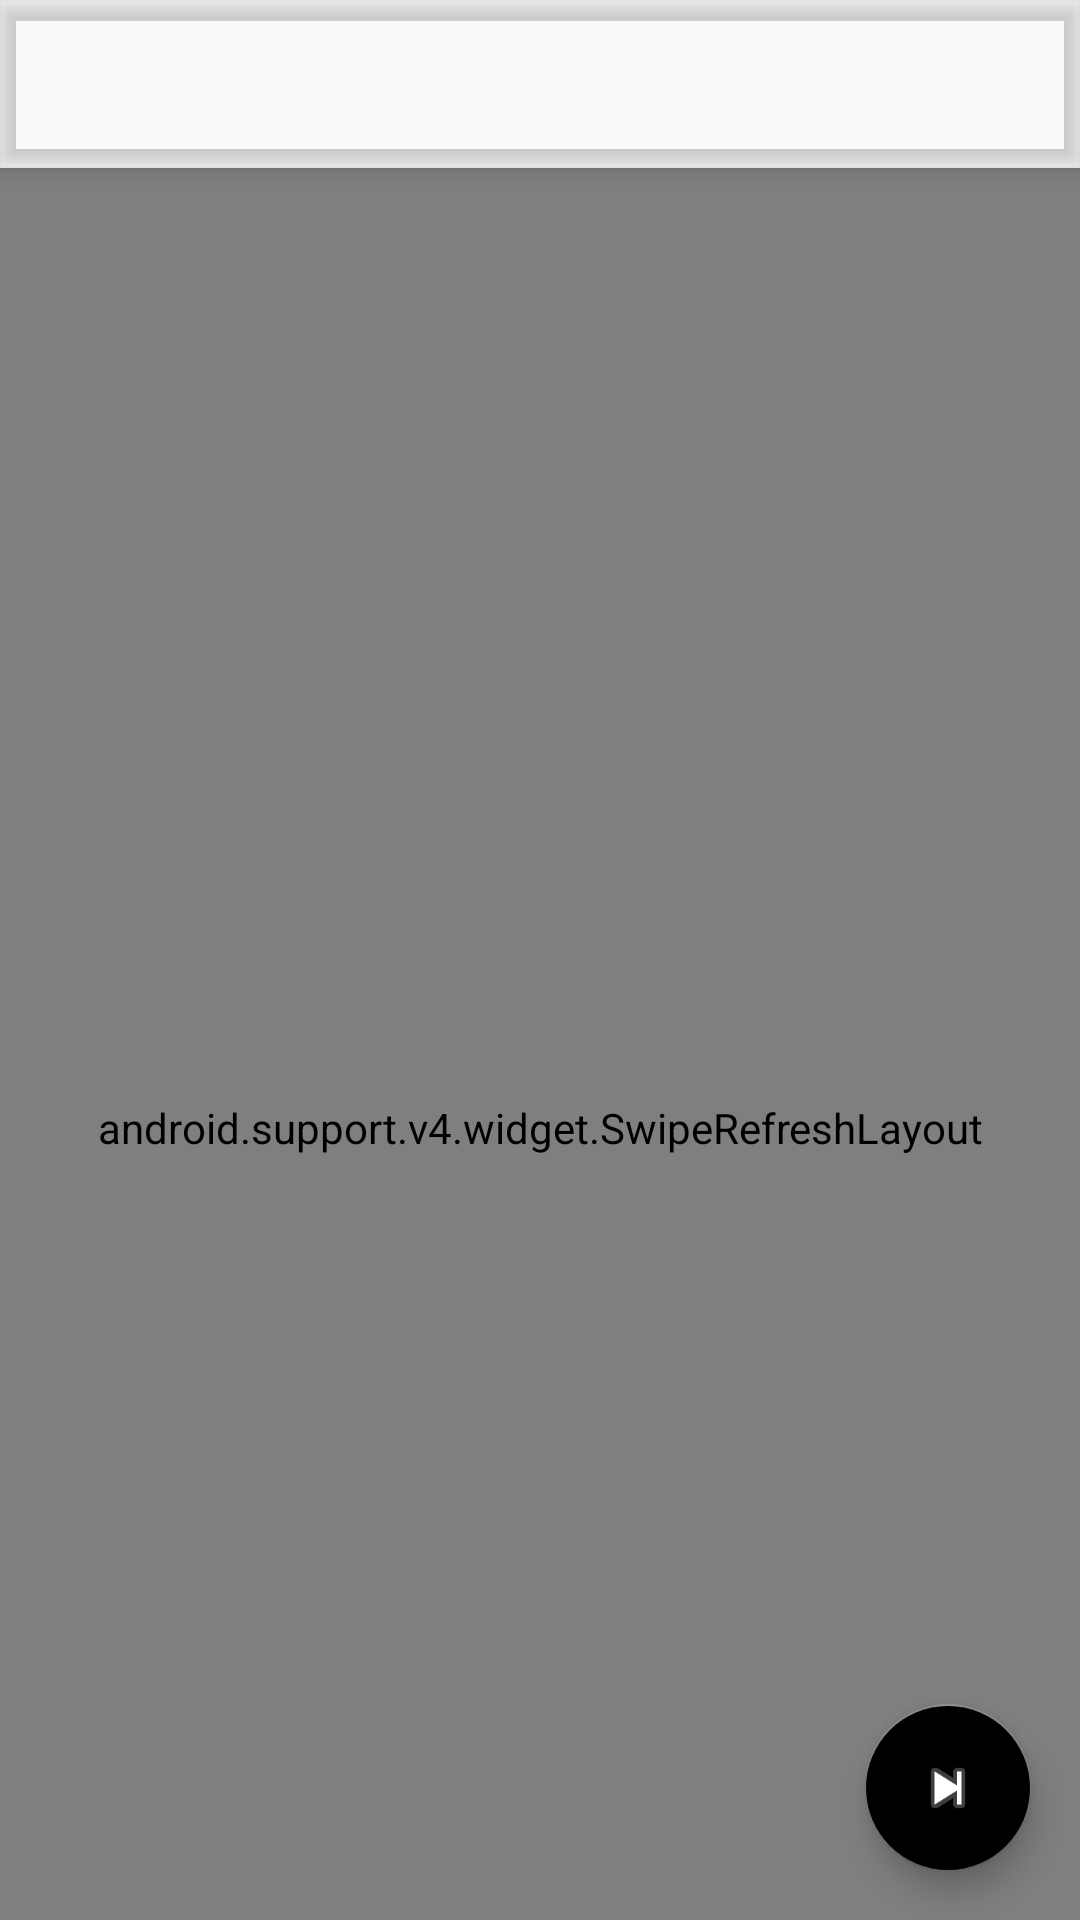

Icons on this 1080*1920 Android screen, each with the point to tap as (x=x, y=y):
next: (x=948, y=1789)
